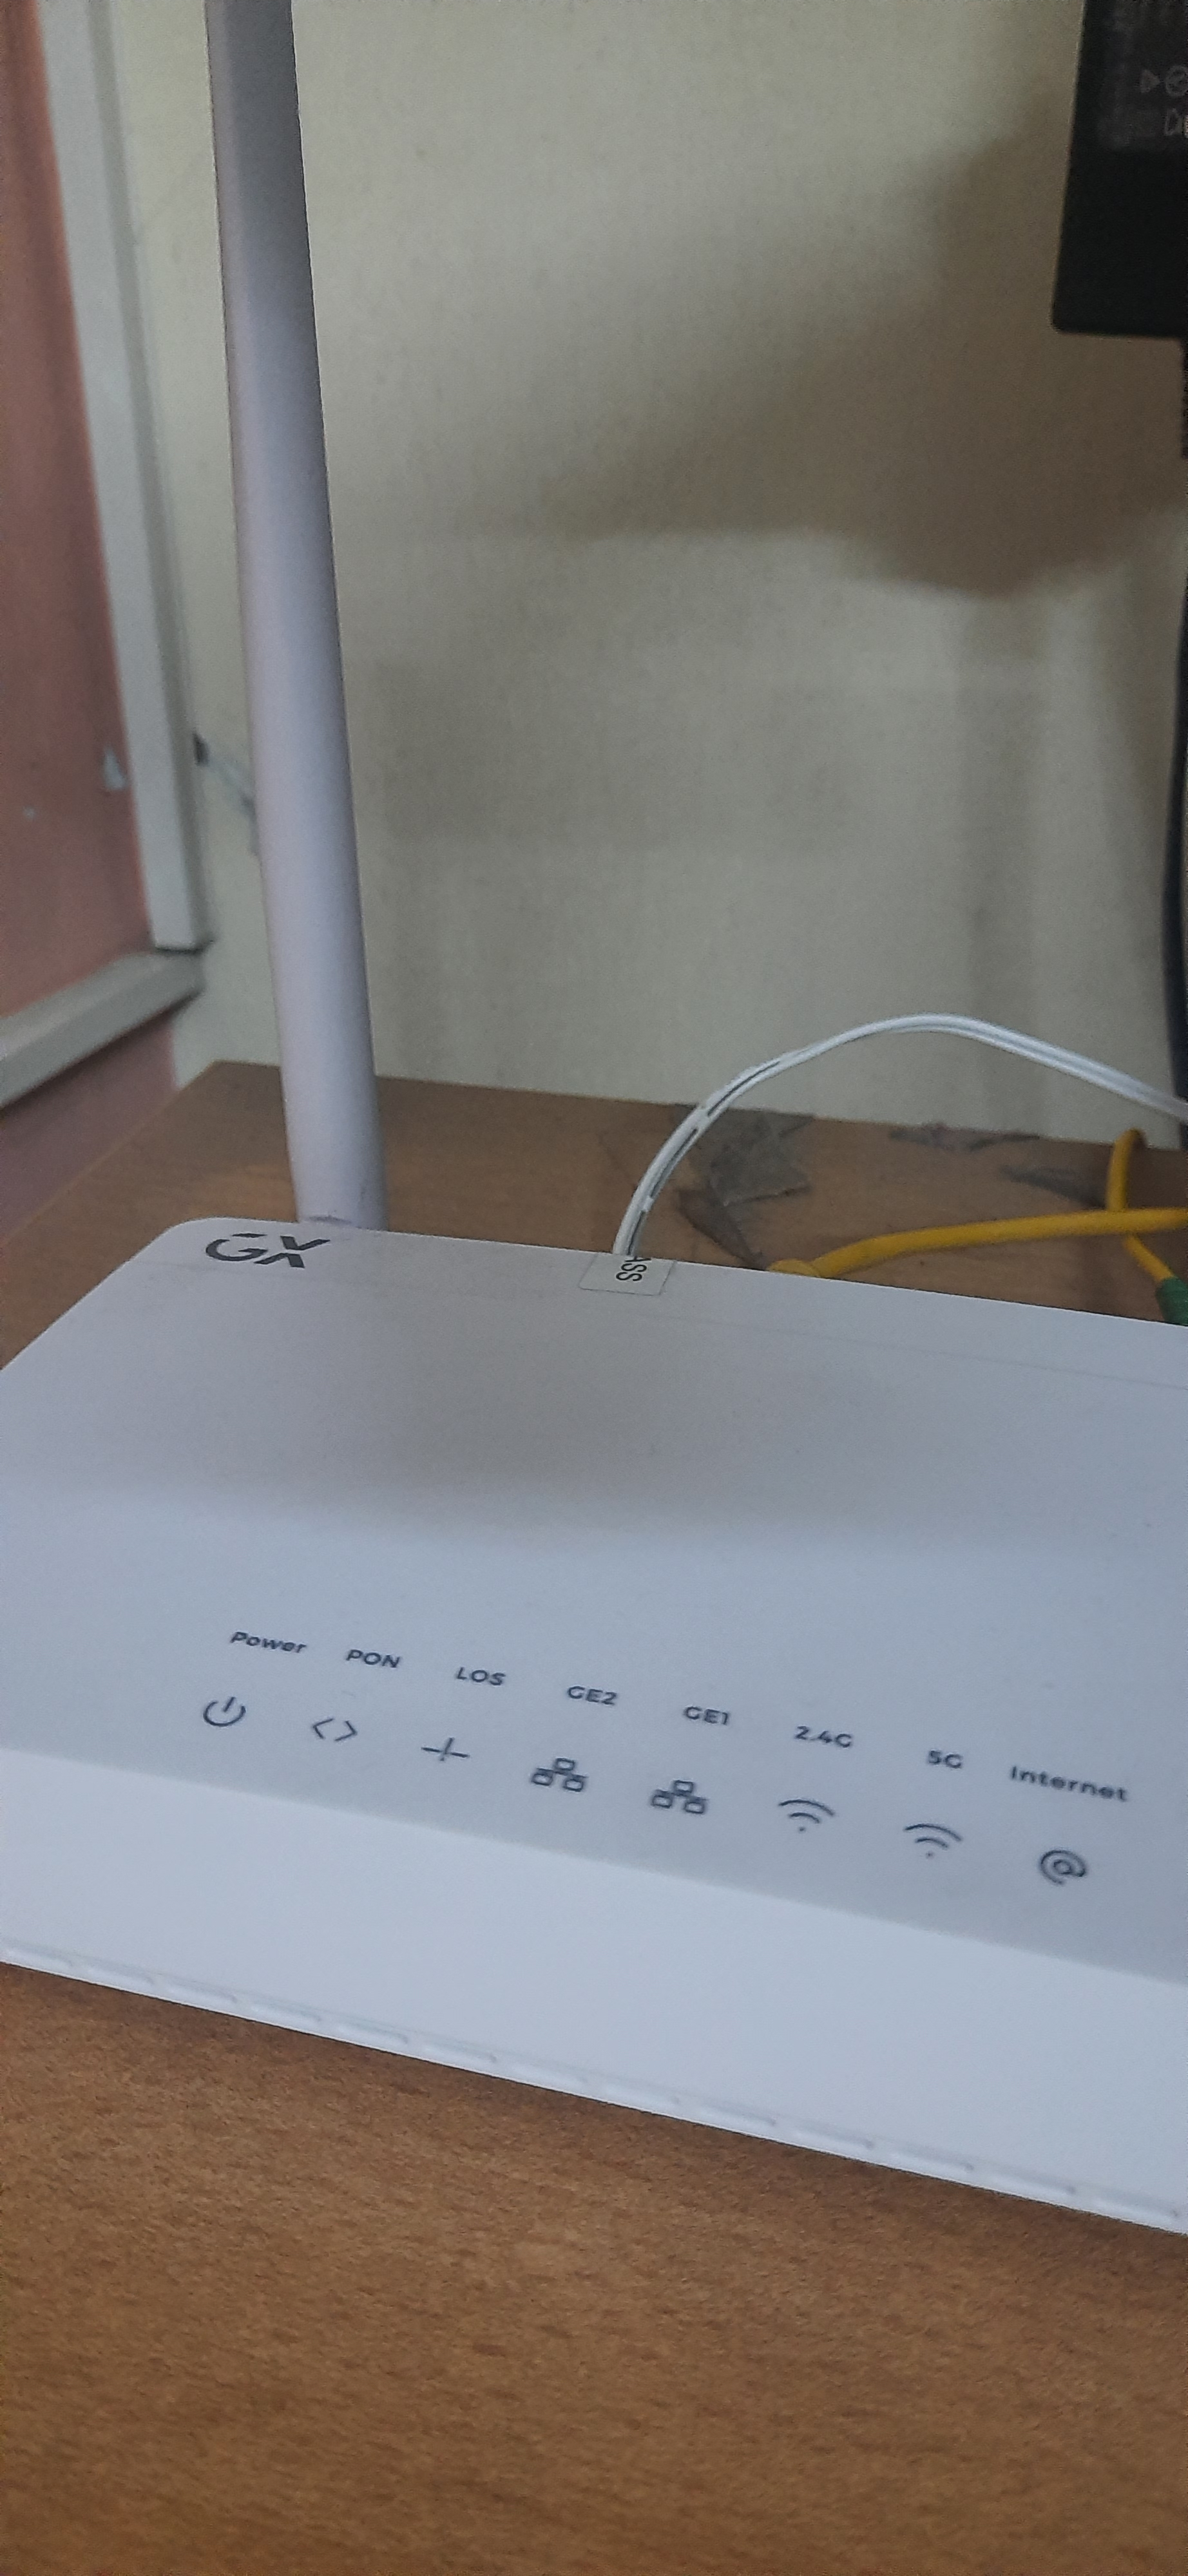WhiteWireIssue: (163, 1597, 1150, 1942)
